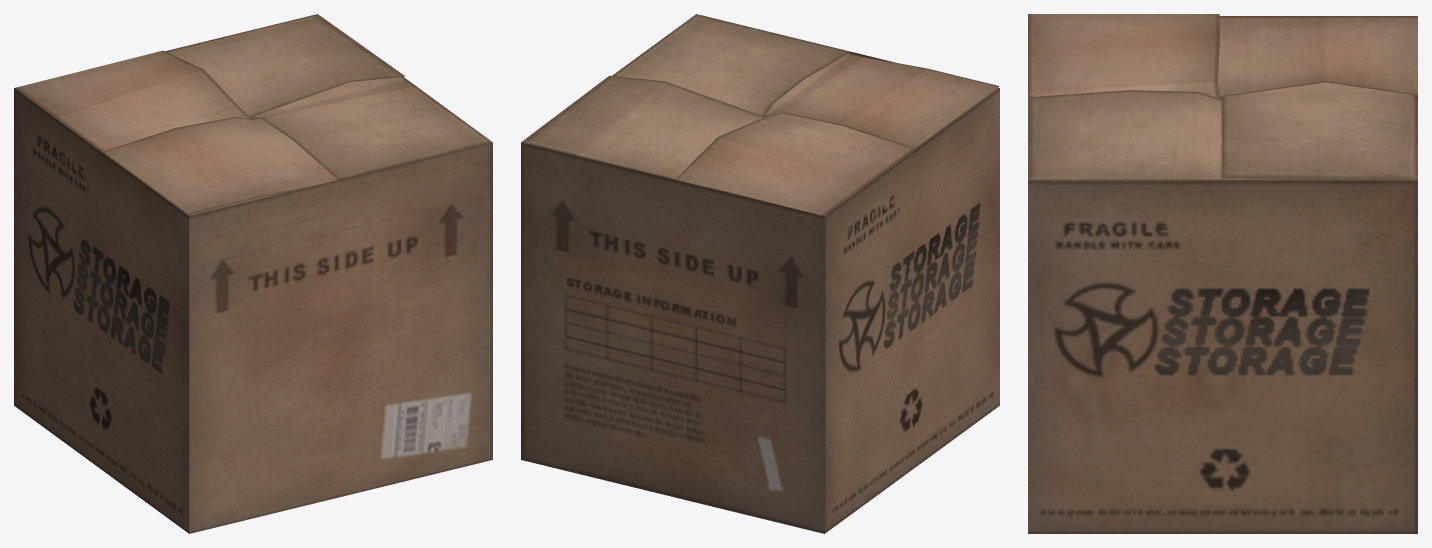
3 renders of one model, left to right at view 1: azimuth 30°, elevation 25°; view 2: azimuth 150°, elevation 25°; view 3: azimuth 270°, elevation 25°, orthographic. The views are drawn at different scales.
Visible parts, largest first — view 1: Box_12; view 2: Box_12; view 3: Box_12.
Part boxes in pixels (x1,y1,x2,y2): Box_12: [14, 14, 492, 533]; Box_12: [521, 14, 999, 533]; Box_12: [1028, 14, 1417, 533].
Size of the model in its own units: 50 by 52.01 by 50.
